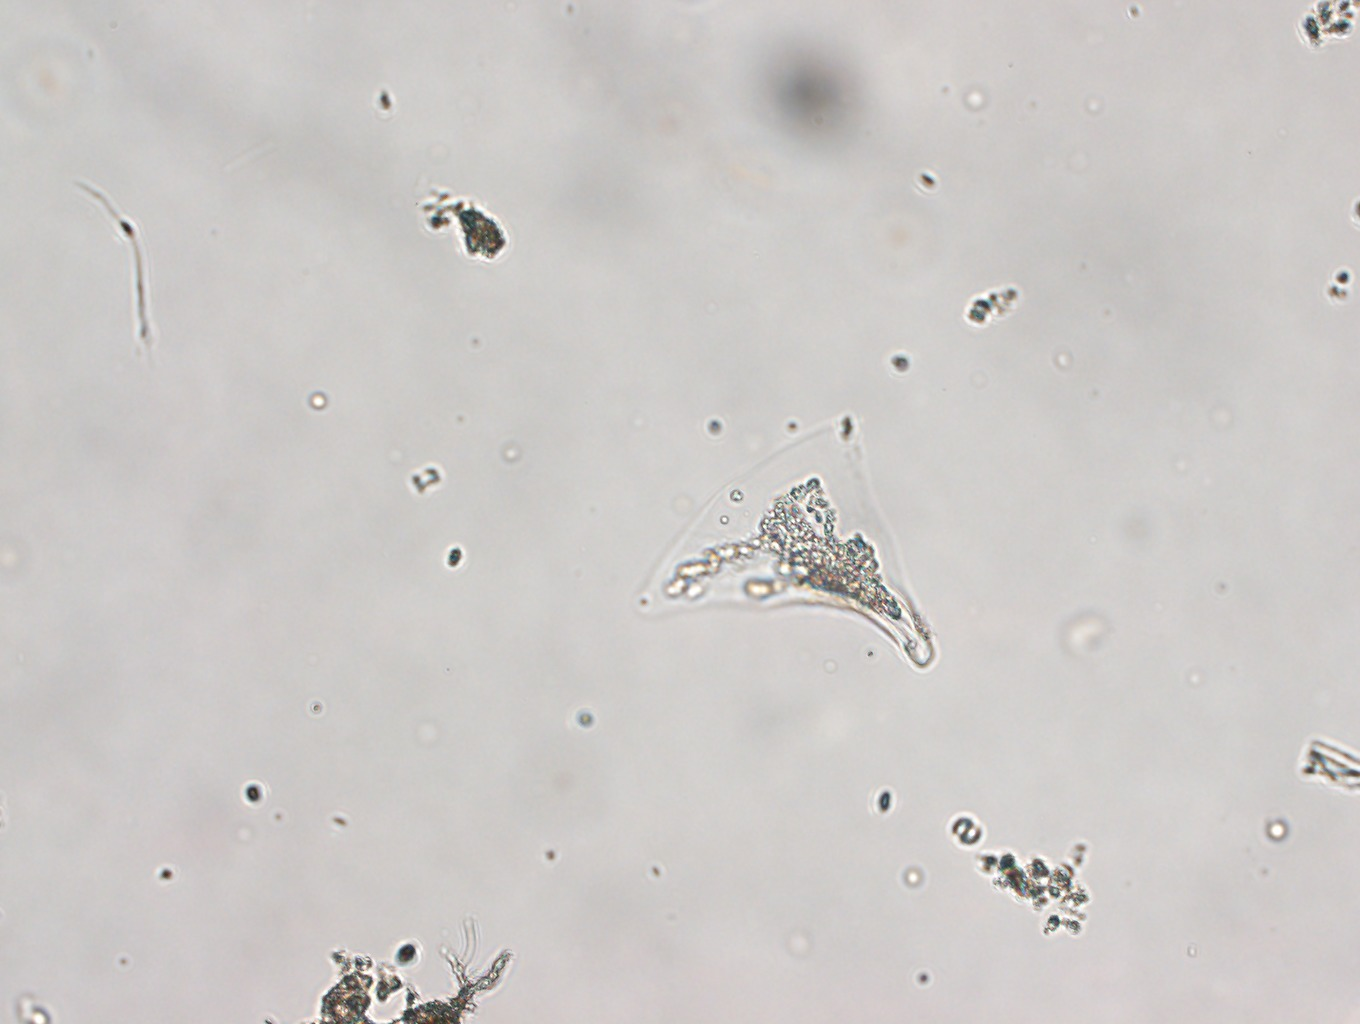helicotheca: (620, 399, 936, 675)
